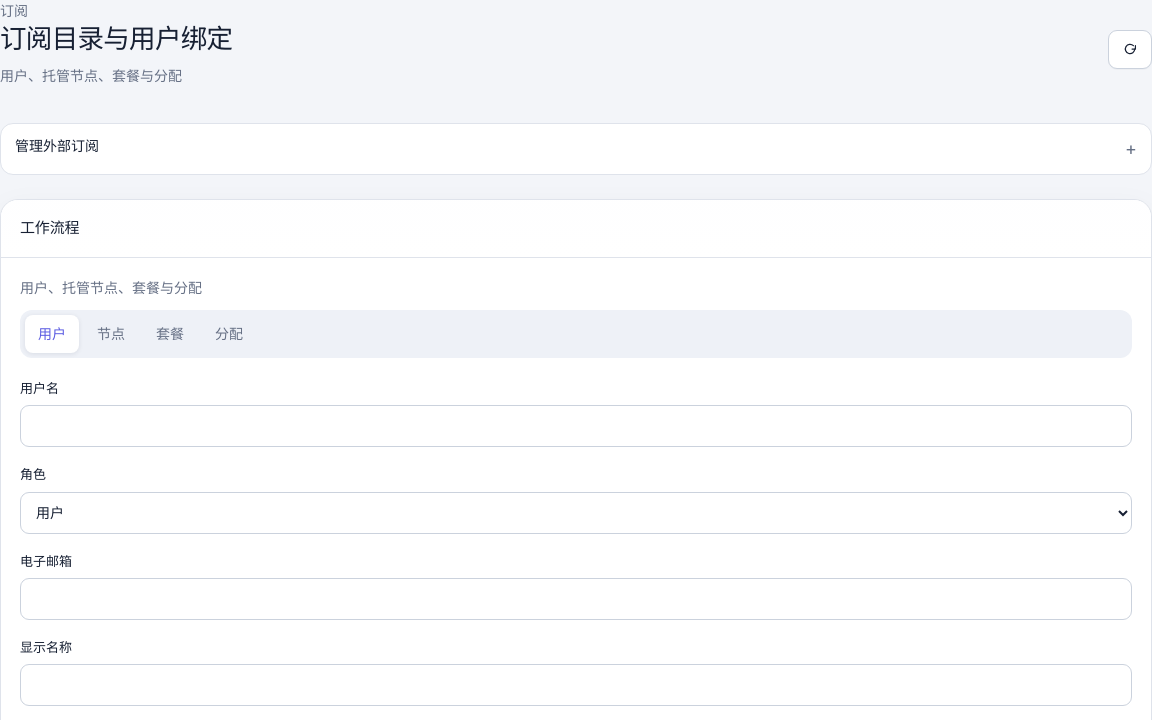
Scenario: React subscriptions view › preserves assignment dates and defaults to synchronizing real Agent accounts
Click the tab "分配" at (229, 334), box [202, 315, 256, 353]
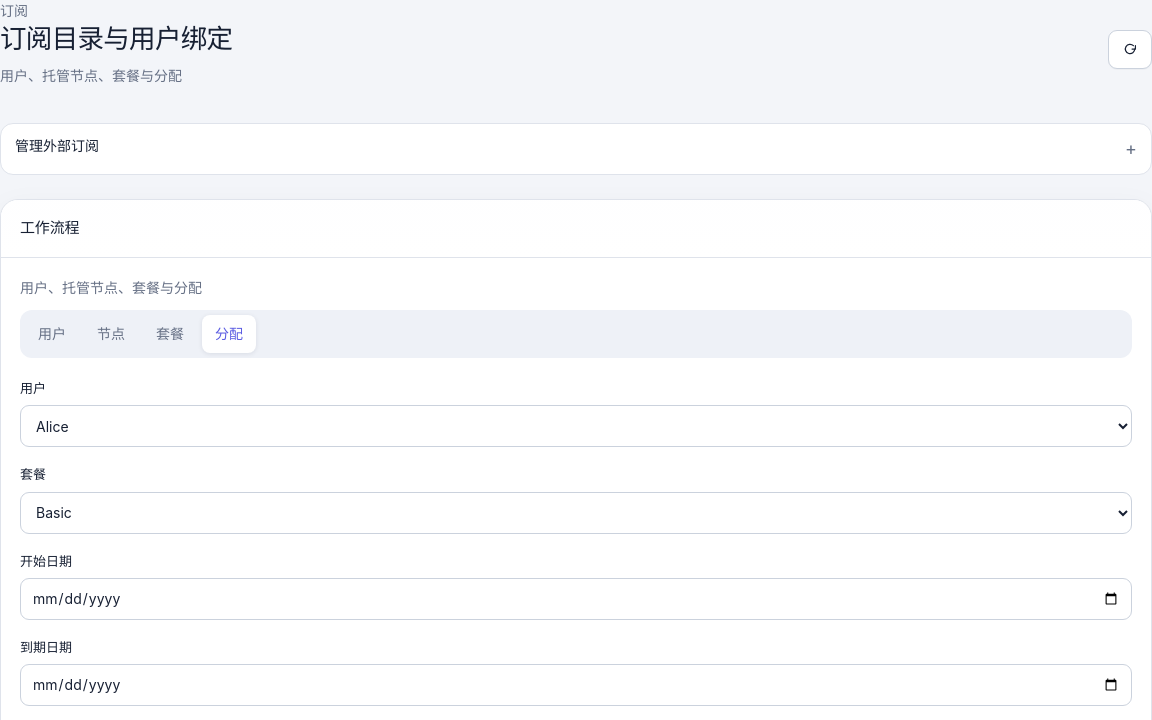
Type "2026-09-01" into the date field named "开始日期" at (576, 599), box [20, 578, 1132, 620]
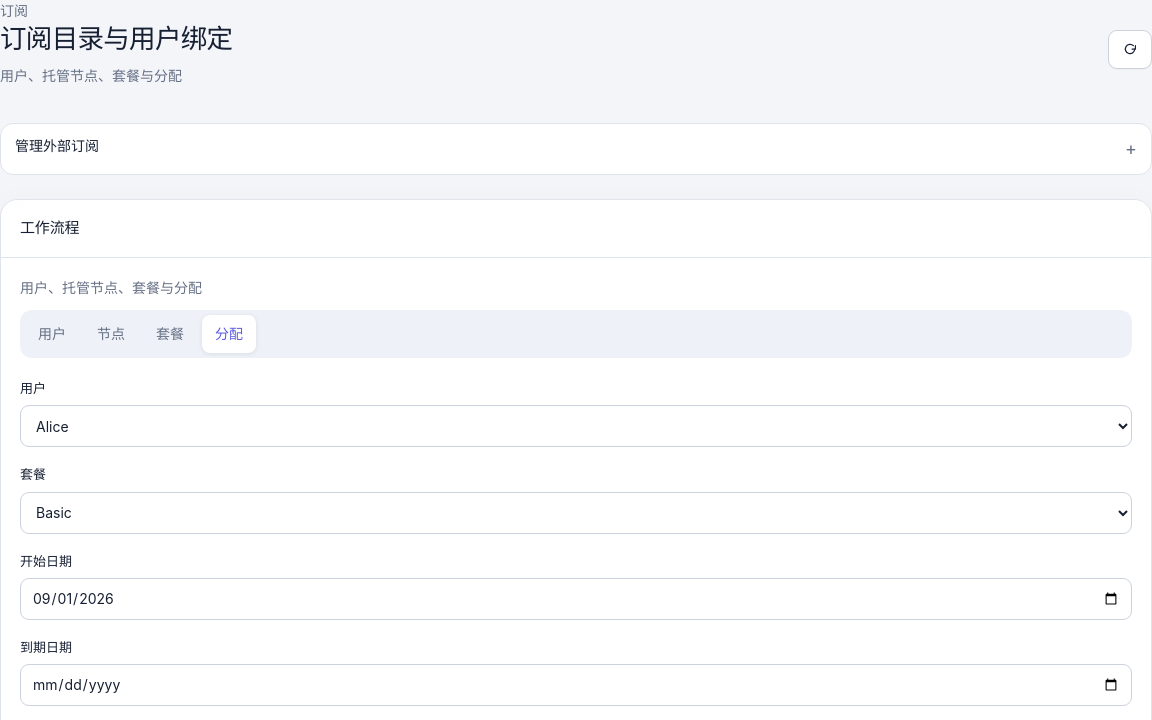
Type "2026-10-01" into the date field named "到期日期" at (576, 685), box [20, 664, 1132, 706]
(page scrolled)
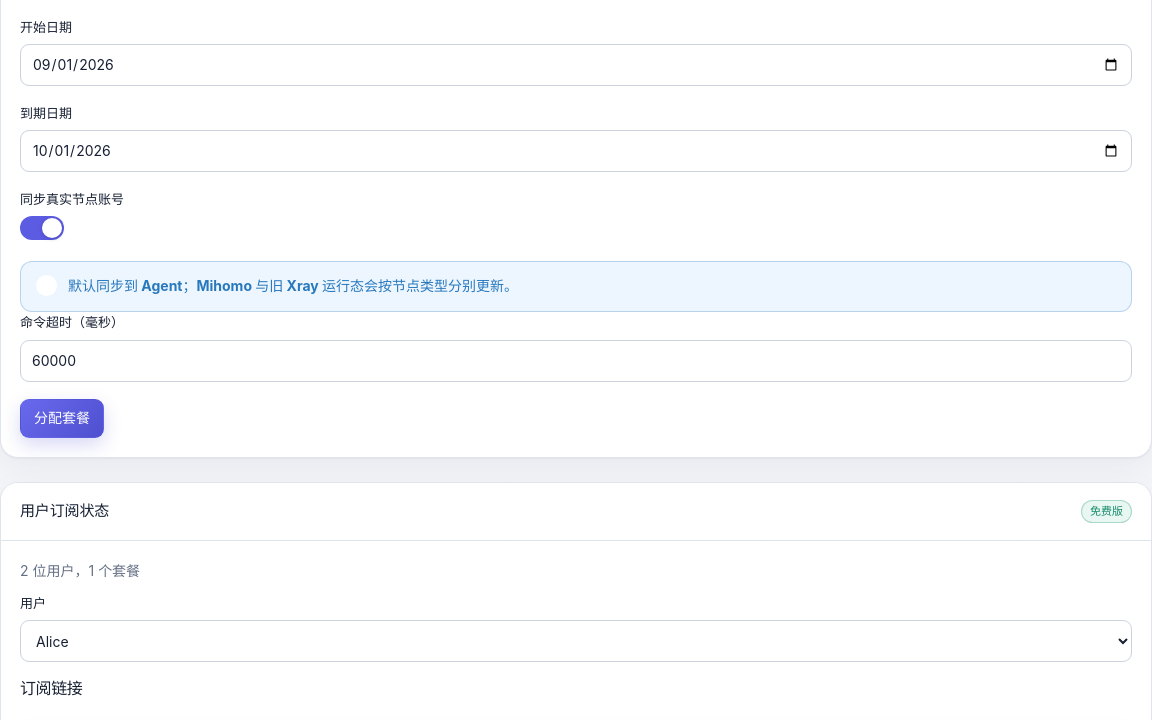
Replace the text in the number field named "命令超时（毫秒）" with "30000" at (576, 360), box [20, 340, 1132, 382]
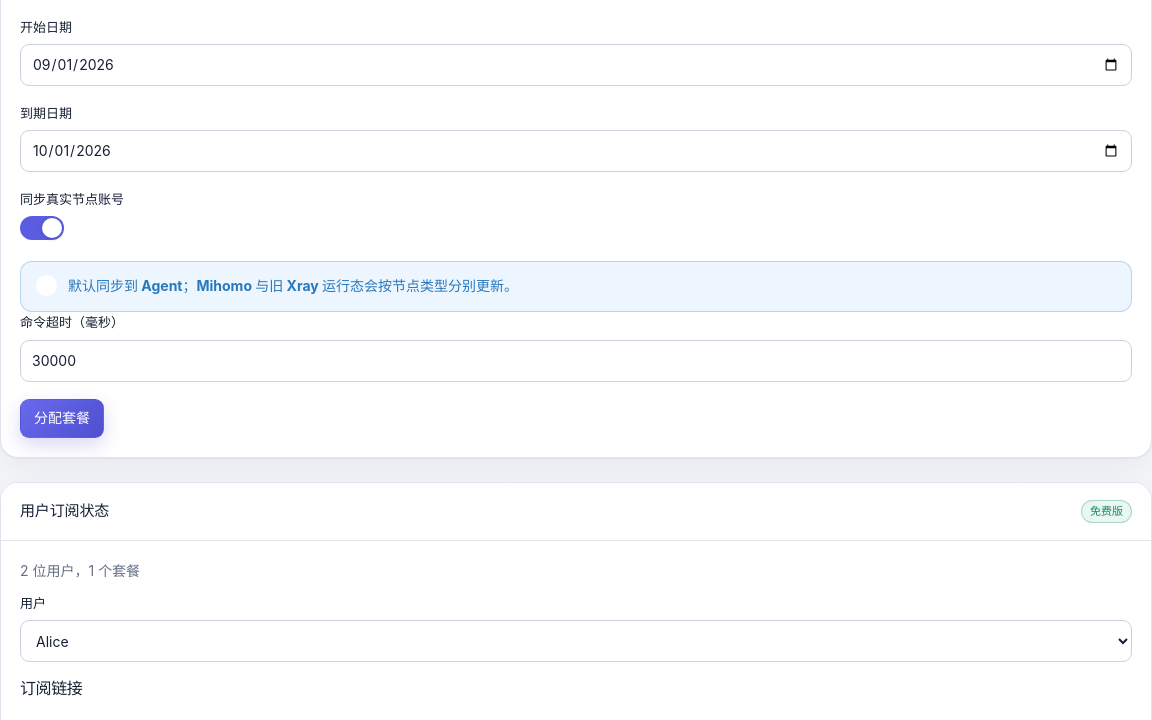
Click the button "分配套餐" at (62, 418), box [20, 398, 104, 438]
(page scrolled)
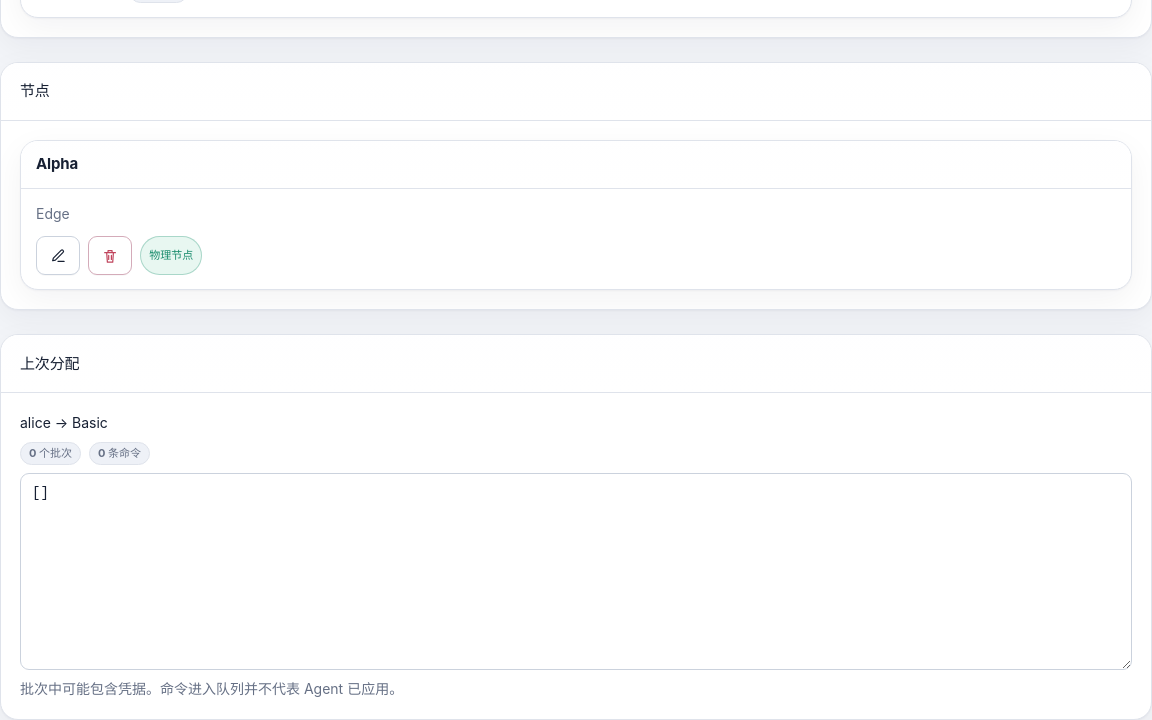
Check: the text box named "配置下发批次" is shown, box [20, 473, 1132, 670]
Check: the text "批次中可能包含凭据。命令进入队列并不代表 Agent 已应用。" is shown, box [20, 680, 403, 697]
